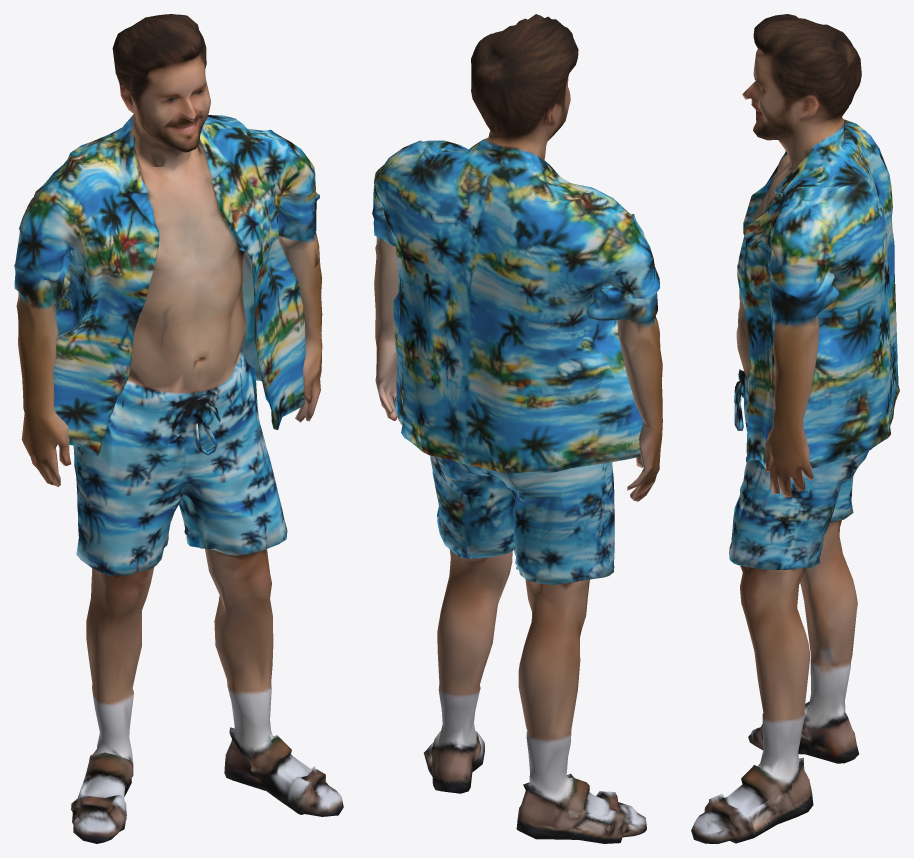
Rendered from bule_cowok_2_idle.glb.
3 renders of one model, left to right at view 1: azimuth 30°, elevation 25°; view 2: azimuth 150°, elevation 25°; view 3: azimuth 270°, elevation 25°, orthographic. The views are drawn at different scales.
Parts seen in each view (by area): view 1: tripo_node_f8d2a659; view 2: tripo_node_f8d2a659; view 3: tripo_node_f8d2a659.
Part boxes in pixels (box(x1,y1,x2,y2)): tripo_node_f8d2a659: box(14, 14, 343, 843); tripo_node_f8d2a659: box(372, 14, 662, 843); tripo_node_f8d2a659: box(691, 14, 899, 843).
Size of the model in its own units: 38.43 by 99.83 by 24.69.
Materials: 1 (1 with a texture image).
